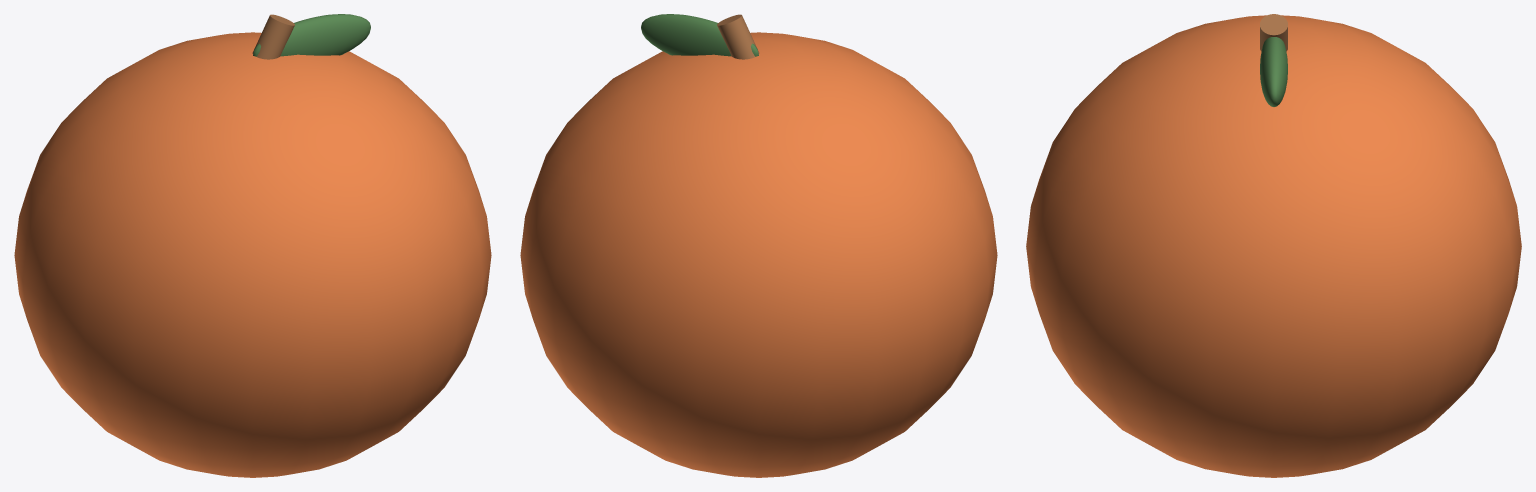
Rendered from wp-peche.glb.
3 views of the same model, side by side, from view 1: azimuth 30°, elevation 25°; view 2: azimuth 150°, elevation 25°; view 3: azimuth 270°, elevation 25° (orthographic). The views are drawn at different scales.
Visible parts, largest first — view 1: wp-peche; view 2: wp-peche; view 3: wp-peche.
Boxes of the visible parts, <box> form: wp-peche: <box>14,14,491,477</box>; wp-peche: <box>520,14,997,477</box>; wp-peche: <box>1026,14,1521,477</box>.
Size of the model in its own units: 0.08 by 0.08 by 0.08.
